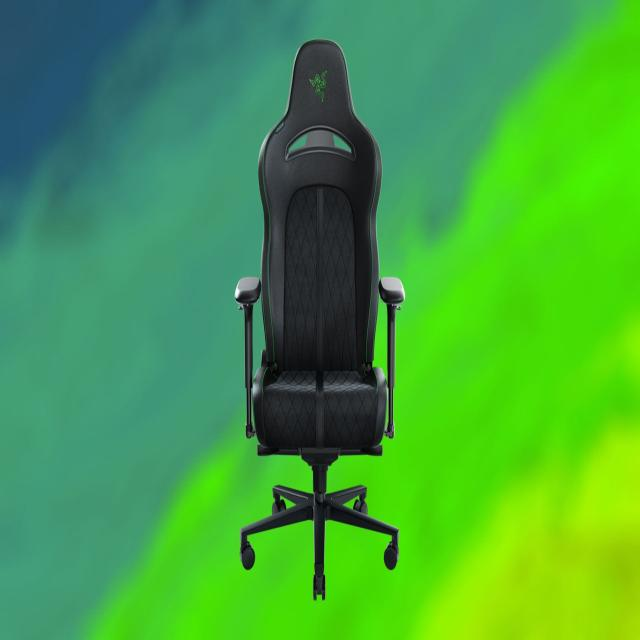obstacle: (216, 14, 435, 610)
